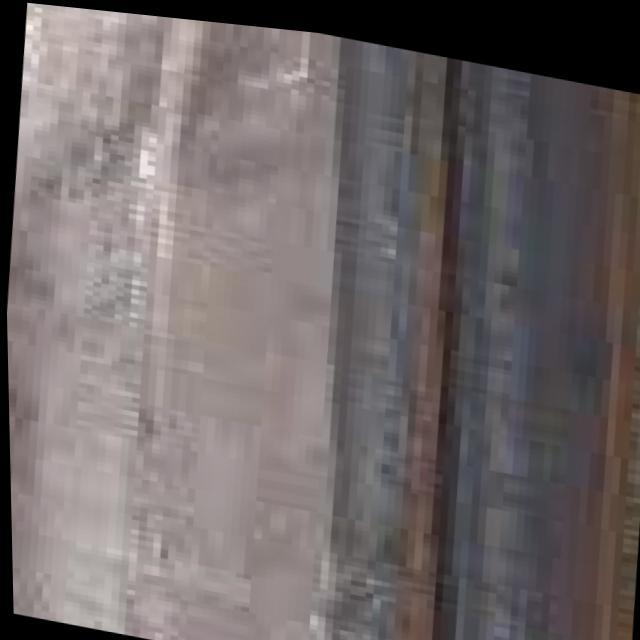metal-plates: (6, 3, 640, 640)
